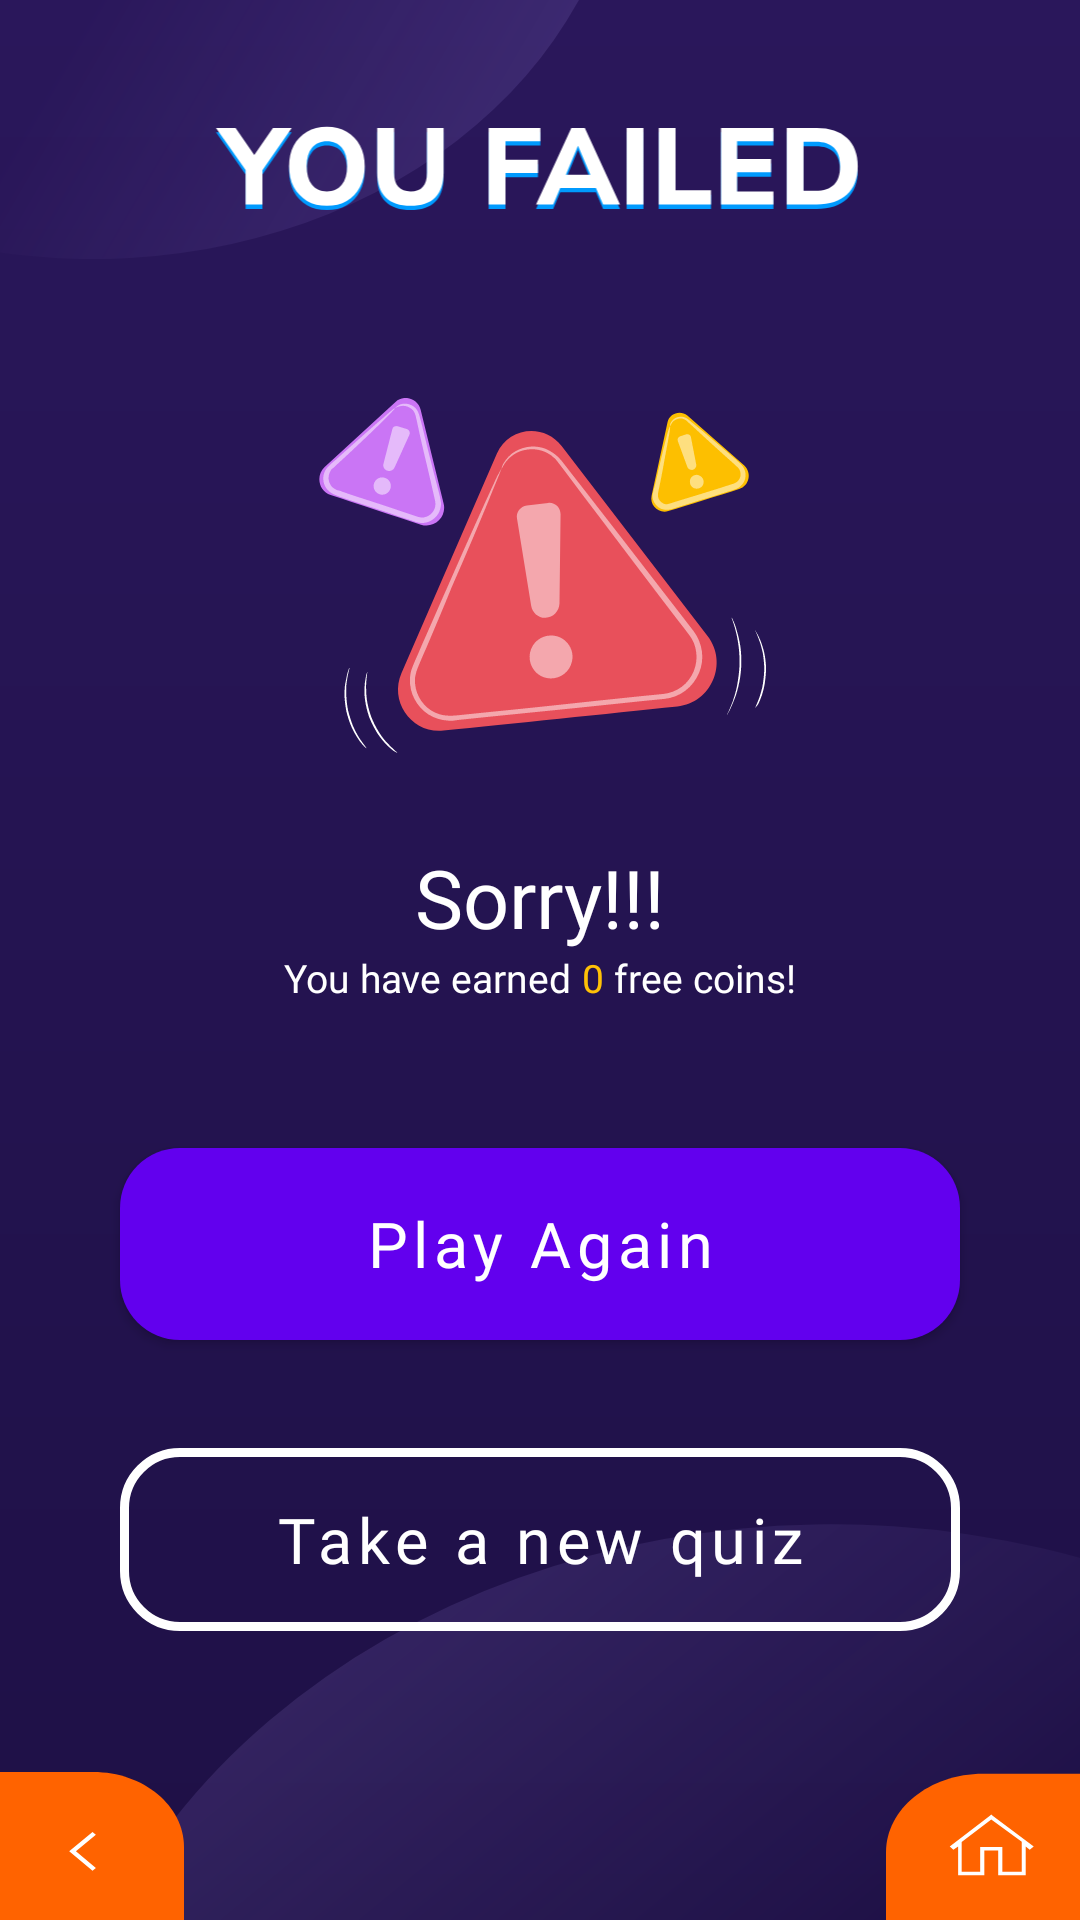

Icon click points for this 1080px×1920px phone screenshot, format [x,y]:
back: [92,1846]
home: [983,1846]
